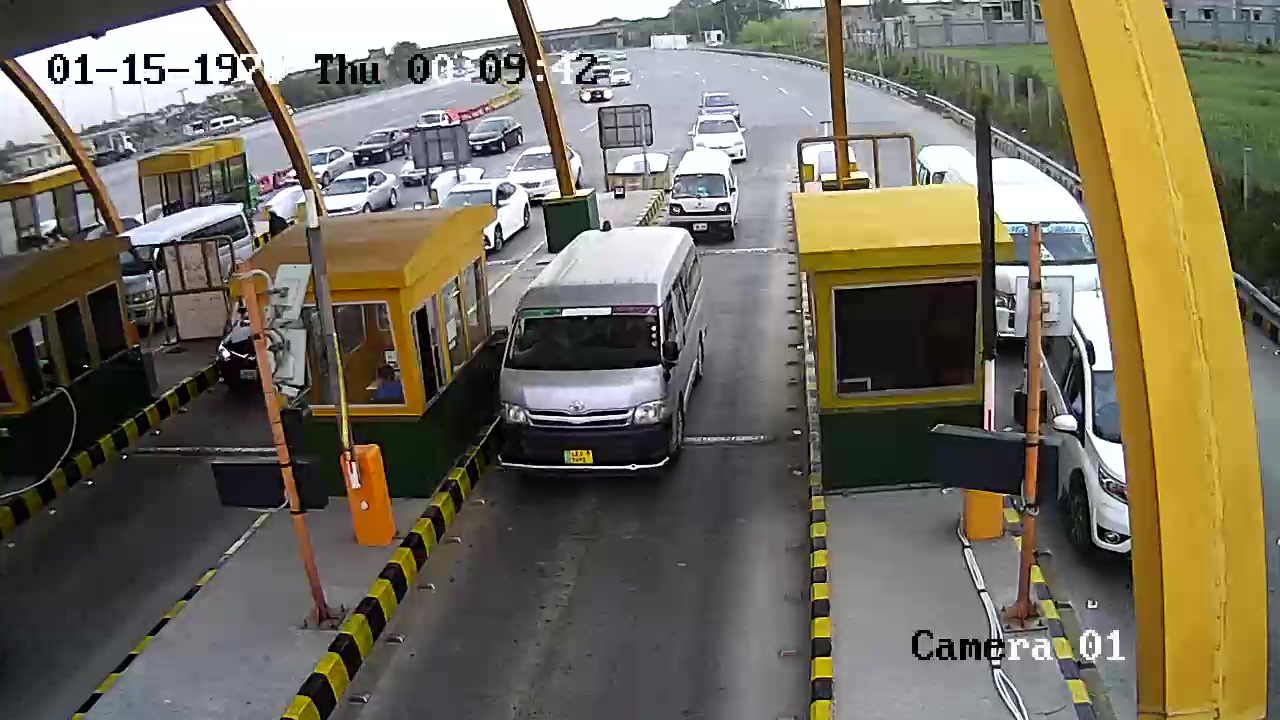F3: (489, 221, 713, 484)
